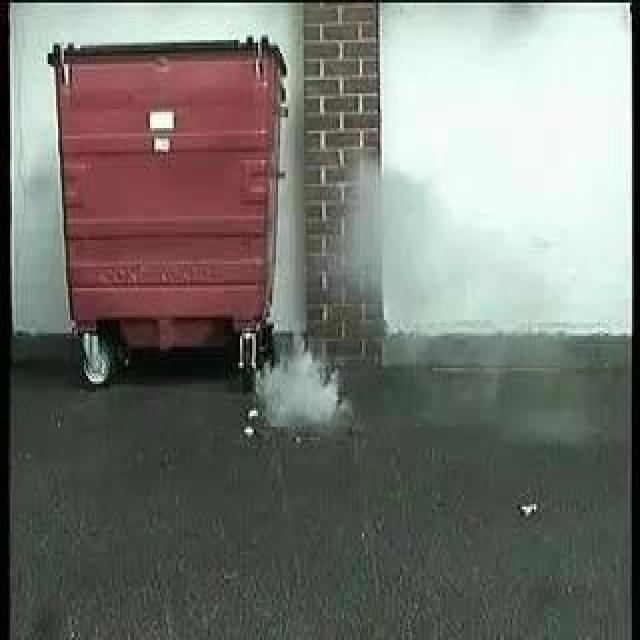Smoke: (258, 316, 358, 433)
